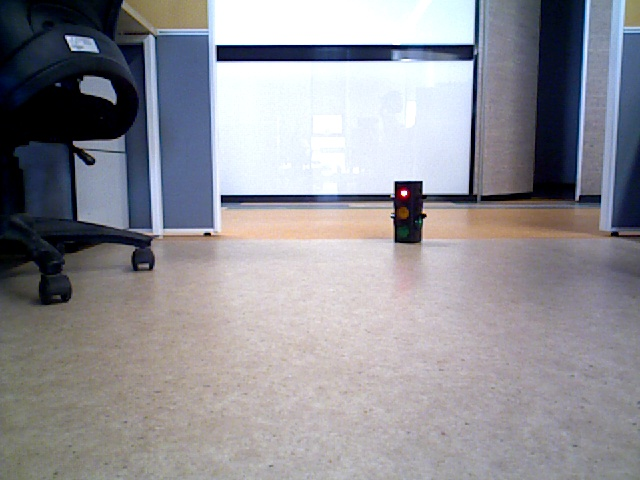red: (396, 183, 416, 241)
